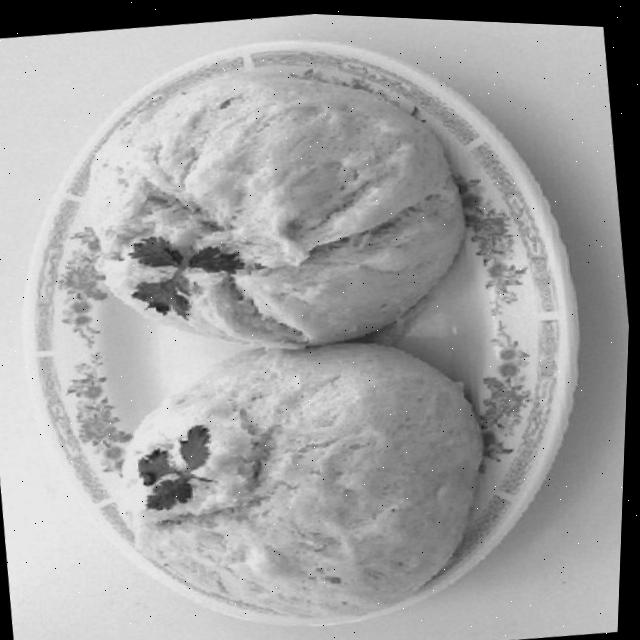带馅早点: (23, 14, 564, 640)
